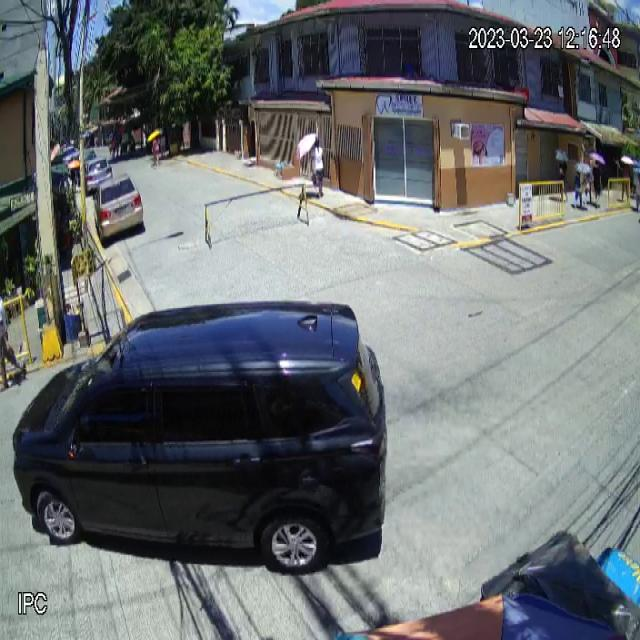Car: (13, 298, 385, 570), (93, 172, 144, 240)
